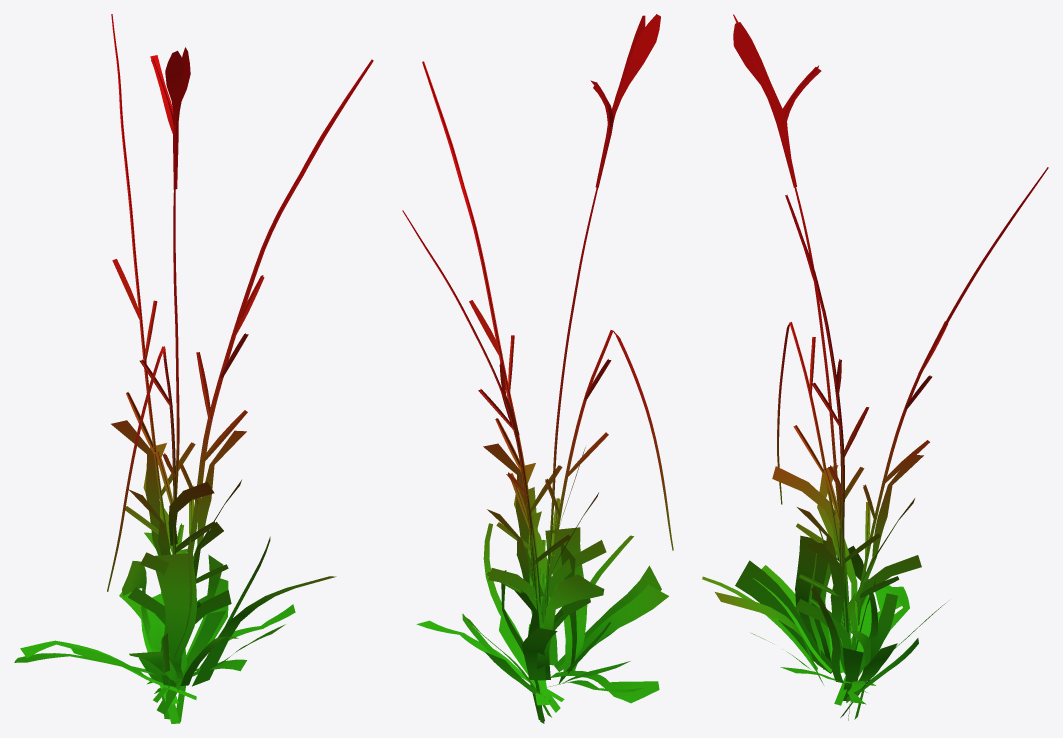
Rendered from tcepfcfr_Var4_LOD0.fbx.
The picture shows the model from 3 angles, left to right: view 1: azimuth 30°, elevation 25°; view 2: azimuth 150°, elevation 25°; view 3: azimuth 270°, elevation 25°; orthographic projection. The views are drawn at different scales.
Visible parts, largest first — view 1: _1f95_Var4_LOD0; view 2: _1f95_Var4_LOD0; view 3: _1f95_Var4_LOD0.
Boxes of the visible parts, bbox=[...] form: _1f95_Var4_LOD0: bbox=[14, 14, 373, 723]; _1f95_Var4_LOD0: bbox=[402, 14, 673, 723]; _1f95_Var4_LOD0: bbox=[702, 14, 1048, 720].
Bounding box in the file's own units: 29.16 × 66.27 × 30.67.
